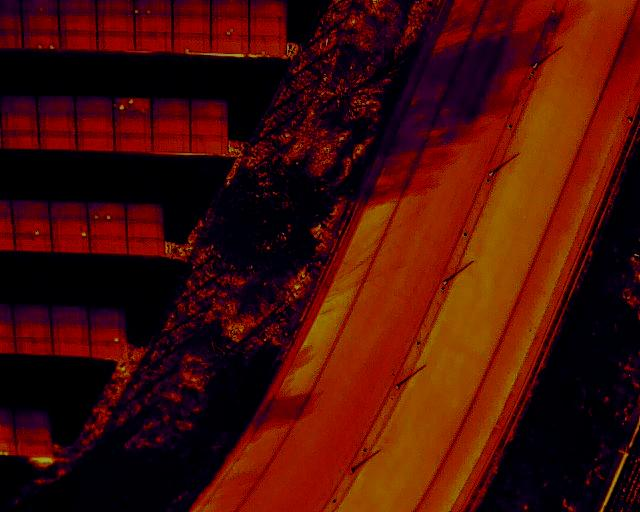Cell: (51, 219, 90, 237), (173, 34, 211, 52), (12, 218, 51, 235), (250, 37, 287, 54), (90, 327, 126, 341), (21, 0, 59, 12)
Cell-Multi: (22, 29, 60, 49), (211, 16, 248, 35), (87, 202, 126, 220), (113, 97, 152, 114), (134, 0, 173, 15)
No-Anomaly: (113, 115, 152, 134), (190, 99, 228, 118), (60, 30, 98, 49), (38, 132, 76, 151), (152, 116, 190, 135), (10, 200, 50, 218), (90, 307, 126, 327), (98, 32, 135, 51), (76, 133, 113, 152), (75, 114, 114, 132), (249, 18, 287, 36), (173, 16, 211, 34), (126, 203, 164, 221), (190, 118, 228, 136), (0, 131, 38, 149), (59, 13, 97, 31), (50, 201, 88, 219), (37, 113, 75, 131), (152, 98, 190, 116), (114, 134, 152, 152), (98, 13, 135, 31), (136, 33, 173, 51), (249, 0, 286, 18), (128, 237, 165, 255), (191, 135, 227, 153), (135, 16, 173, 33), (90, 237, 128, 254), (212, 35, 250, 52), (152, 135, 190, 152), (15, 321, 52, 338), (52, 323, 89, 340), (22, 12, 59, 29), (75, 96, 112, 113), (0, 113, 37, 130), (51, 306, 90, 322), (15, 425, 51, 442), (0, 96, 36, 113), (13, 409, 49, 426), (211, 0, 249, 16), (37, 97, 75, 113), (53, 237, 91, 253), (13, 305, 51, 321), (14, 235, 52, 251), (53, 340, 91, 356), (16, 339, 53, 355), (90, 221, 127, 237), (127, 221, 163, 237), (173, 0, 211, 15), (91, 342, 126, 357), (96, 0, 133, 13), (58, 0, 96, 12), (18, 443, 53, 456)
